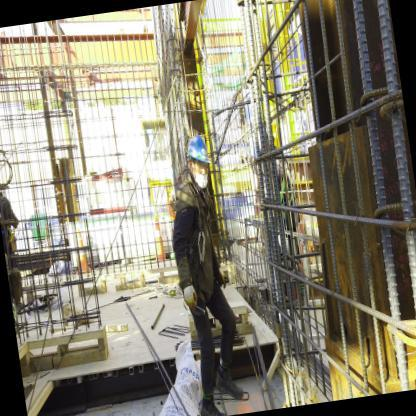safety-shoe: (214, 362, 248, 404), (194, 390, 233, 415)
